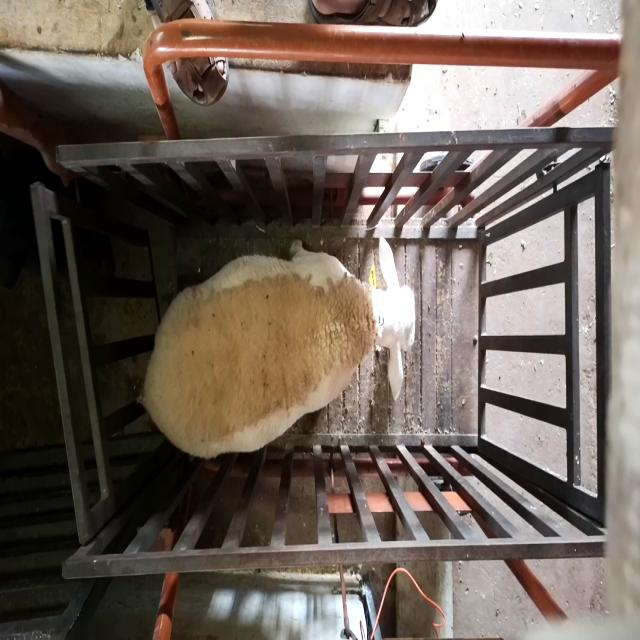sheep: (137, 234, 416, 460)
